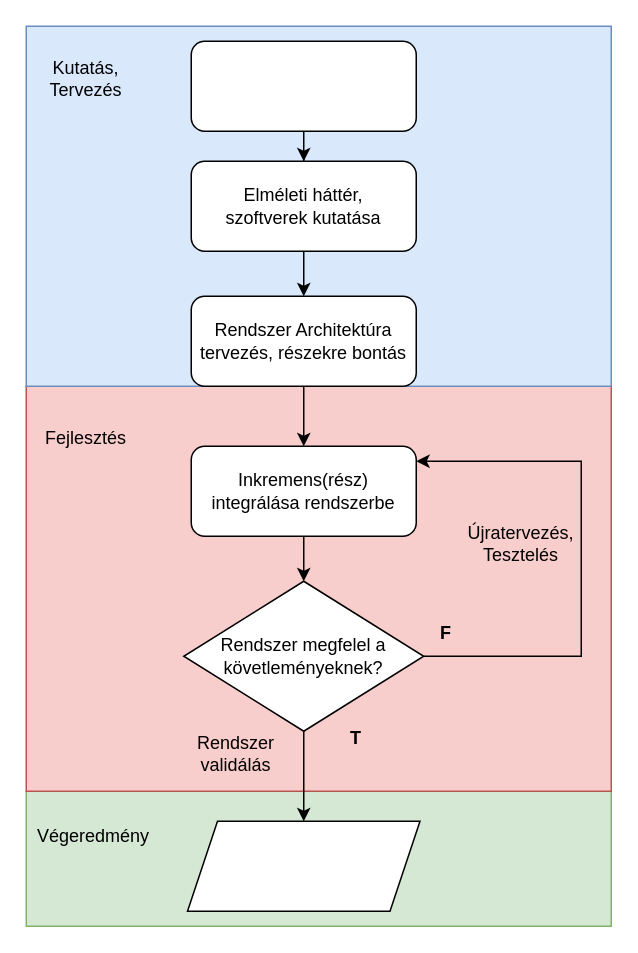
Some shapes in this 638 by 953 pixel diagram are drawn without their labels. Here are the shapes that lost their labels. From the top down, the centre of each, then its label:
At (303,85): "Követelmények definiálása".
At (303,865): "Elkészült Rendszer!".
